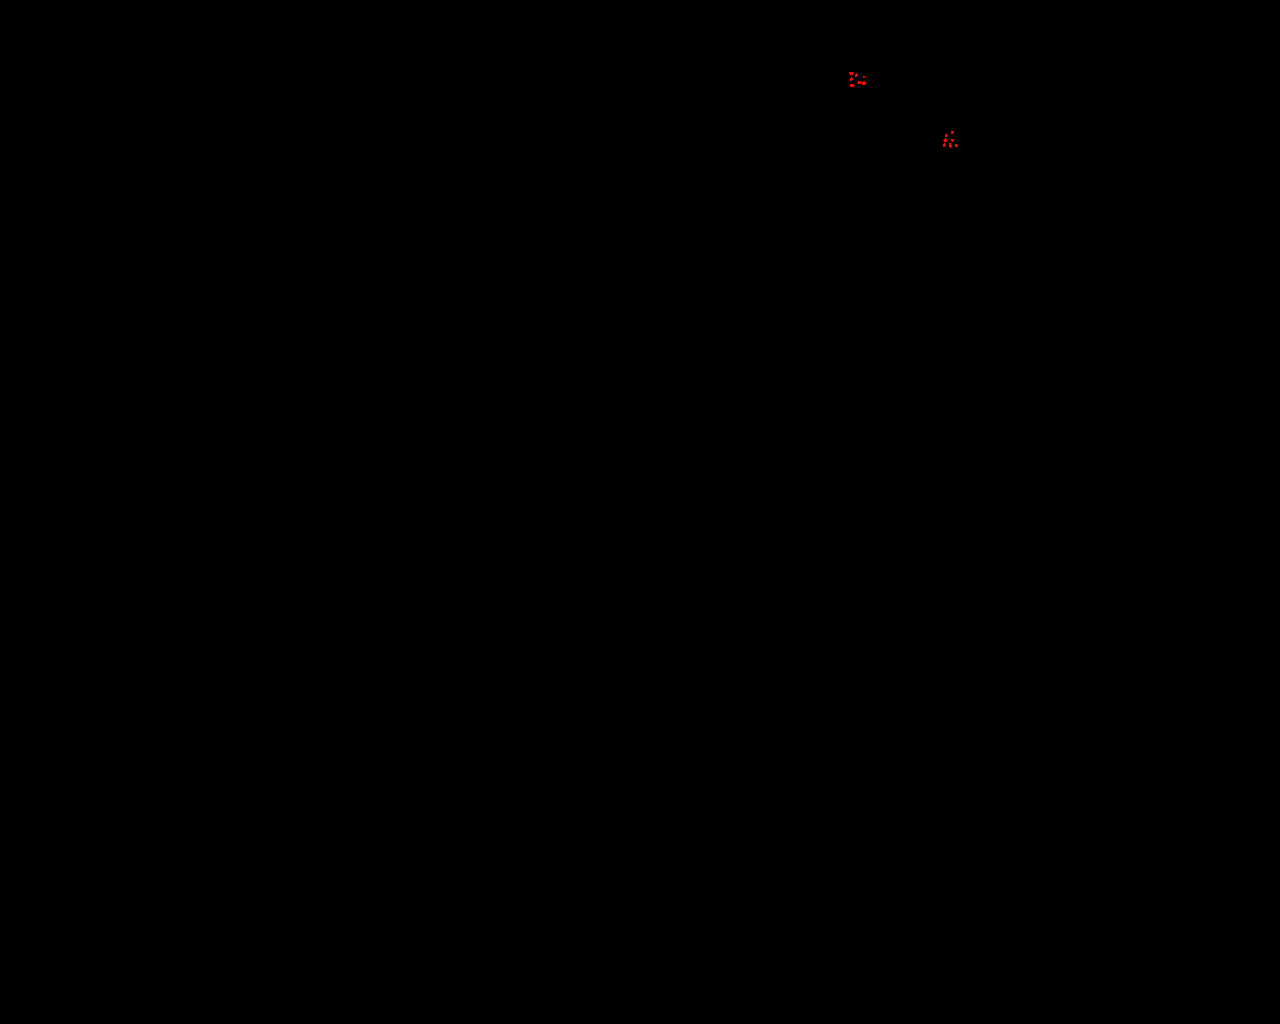Target: (942, 138, 947, 142), (850, 84, 855, 87), (949, 143, 952, 148), (850, 72, 854, 75), (855, 73, 858, 77), (850, 77, 853, 82), (862, 82, 866, 85), (942, 143, 946, 147), (951, 131, 954, 134), (945, 134, 948, 137), (951, 139, 954, 142), (955, 144, 958, 147), (857, 82, 861, 84), (863, 76, 865, 78)
